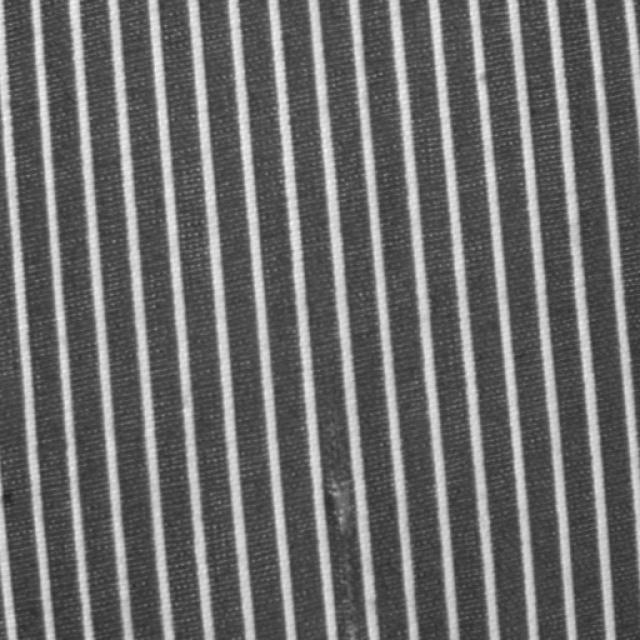Thread-Defect: (321, 424, 368, 639)
